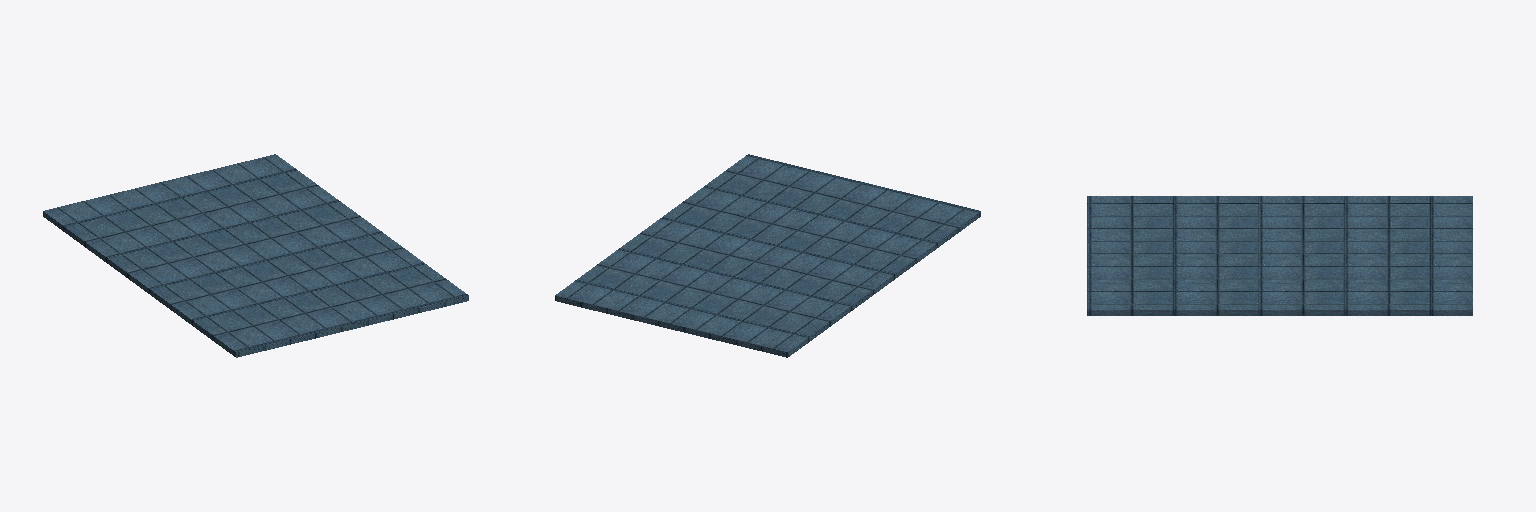
The picture shows the model from 3 angles: view 1: azimuth 30°, elevation 25°; view 2: azimuth 150°, elevation 25°; view 3: azimuth 270°, elevation 25°; orthographic projection.
Parts seen in each view (by area): view 1: wall_9; view 2: wall_9; view 3: wall_9.
Boxes of the visible parts, x1,y1,x2,y2 form: wall_9: [43, 154, 468, 357]; wall_9: [555, 154, 980, 357]; wall_9: [1087, 196, 1472, 315].
Size of the model in its own units: 6.69 by 0.1505 by 9.61.
Materials: 1 (1 with a texture image).